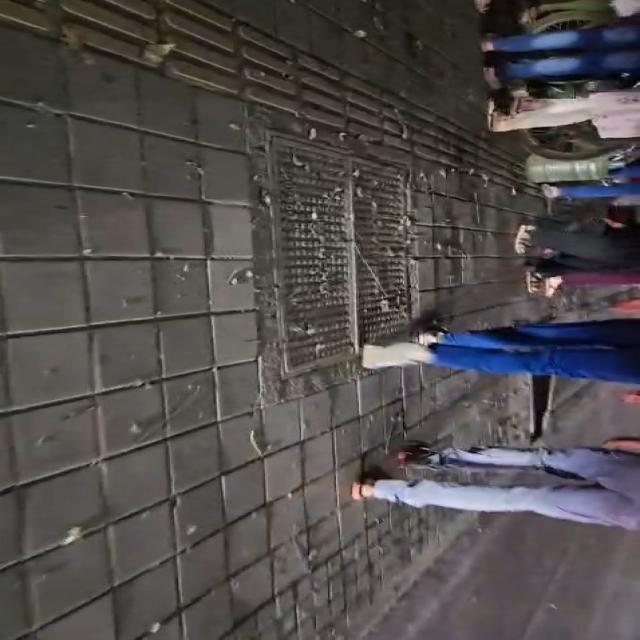bike: (353, 448, 639, 530), (362, 319, 639, 383), (483, 25, 639, 87), (489, 89, 639, 138), (515, 220, 639, 271), (528, 271, 639, 296), (543, 182, 639, 198)
